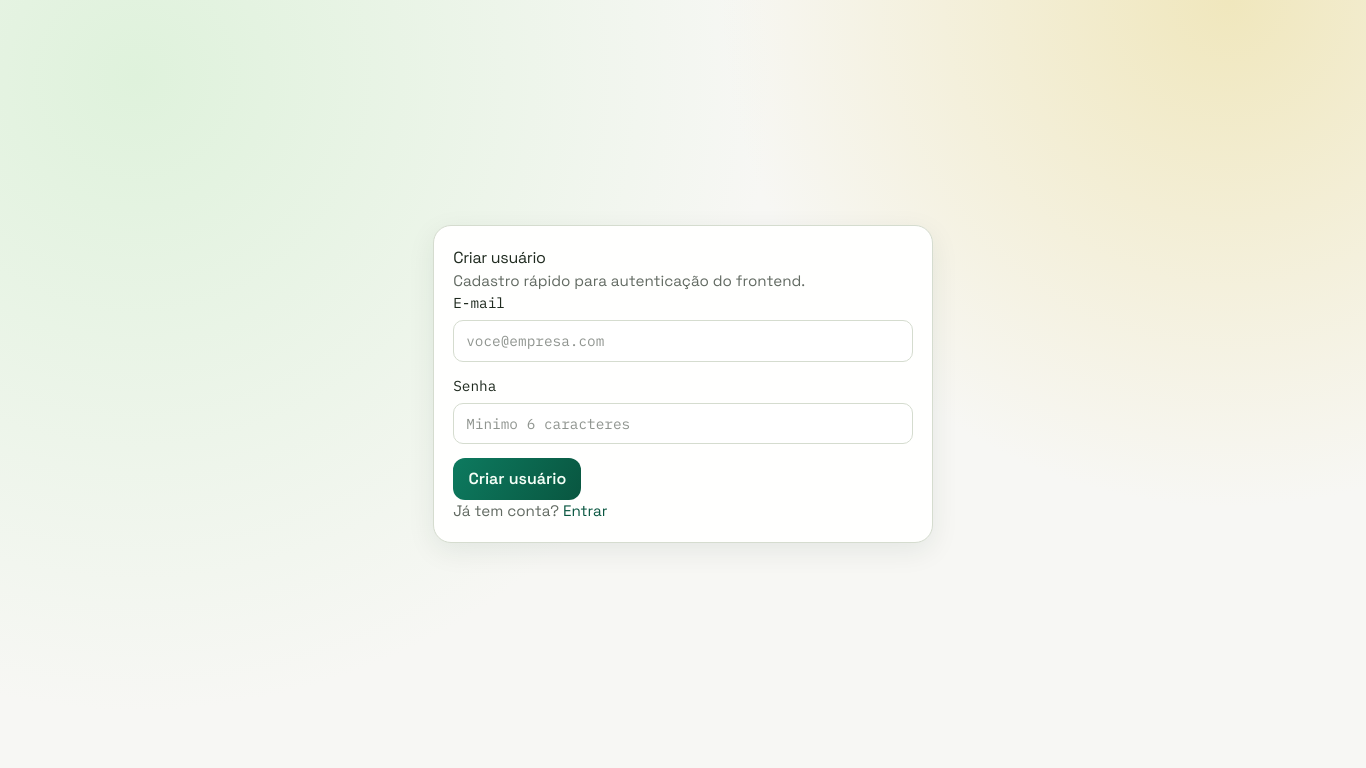
RegisterPage › shows validation error when submitting with empty fields
The width and height of the screenshot is (1366, 768).
Click the button "Criar usuário" at (517, 479), box x1=453 y1=458 x2=581 y2=500
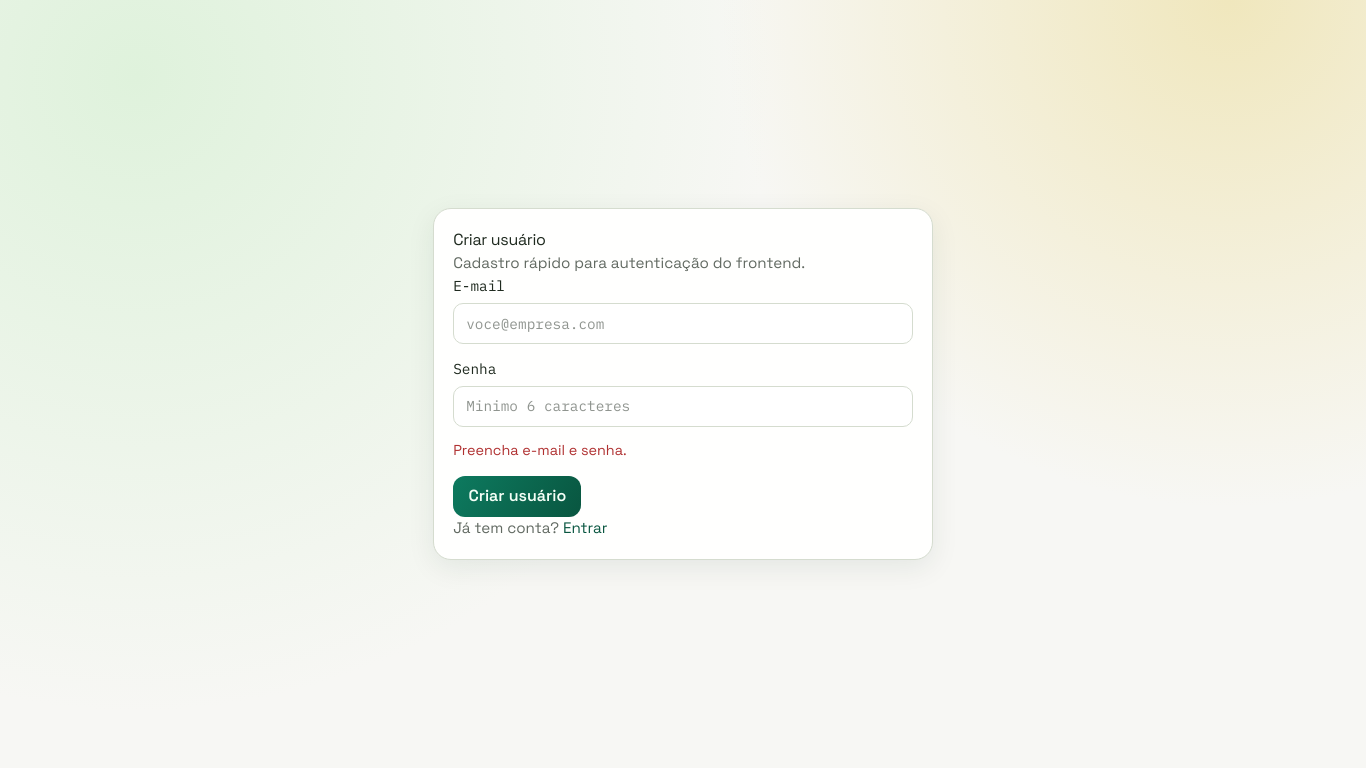
Now the text "Preencha e-mail e senha." is shown, box x1=453 y1=441 x2=627 y2=459
